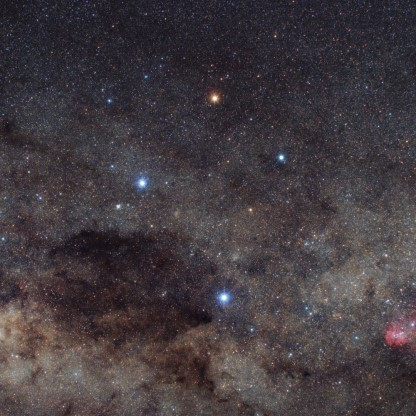Southern Cross: (210, 280, 237, 313), (202, 83, 227, 113), (130, 169, 152, 193), (269, 149, 292, 166)
